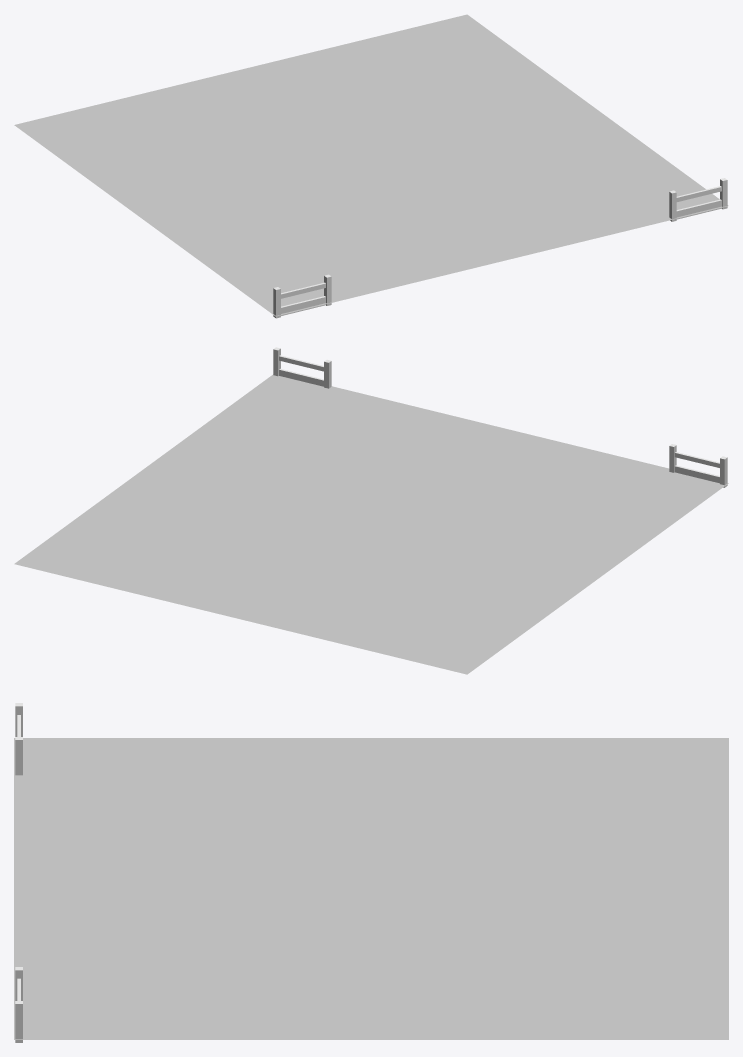
File: tile_for_home_2x2_007.glb
3 views of the same model, one above another, from view 1: azimuth 30°, elevation 25°; view 2: azimuth 150°, elevation 25°; view 3: azimuth 270°, elevation 25° (orthographic). The views are drawn at different scales.
Parts seen in each view (by area): view 1: tile_for_home_2x2_007; view 2: tile_for_home_2x2_007; view 3: tile_for_home_2x2_007.
Part boxes in pixels (bbox=[...]): tile_for_home_2x2_007: bbox=[14, 14, 728, 318]; tile_for_home_2x2_007: bbox=[14, 347, 728, 674]; tile_for_home_2x2_007: bbox=[14, 703, 728, 1042].
Size of the model in its own units: 16 by 0.959 by 16.
Materials: 1 (1 with a texture image).
